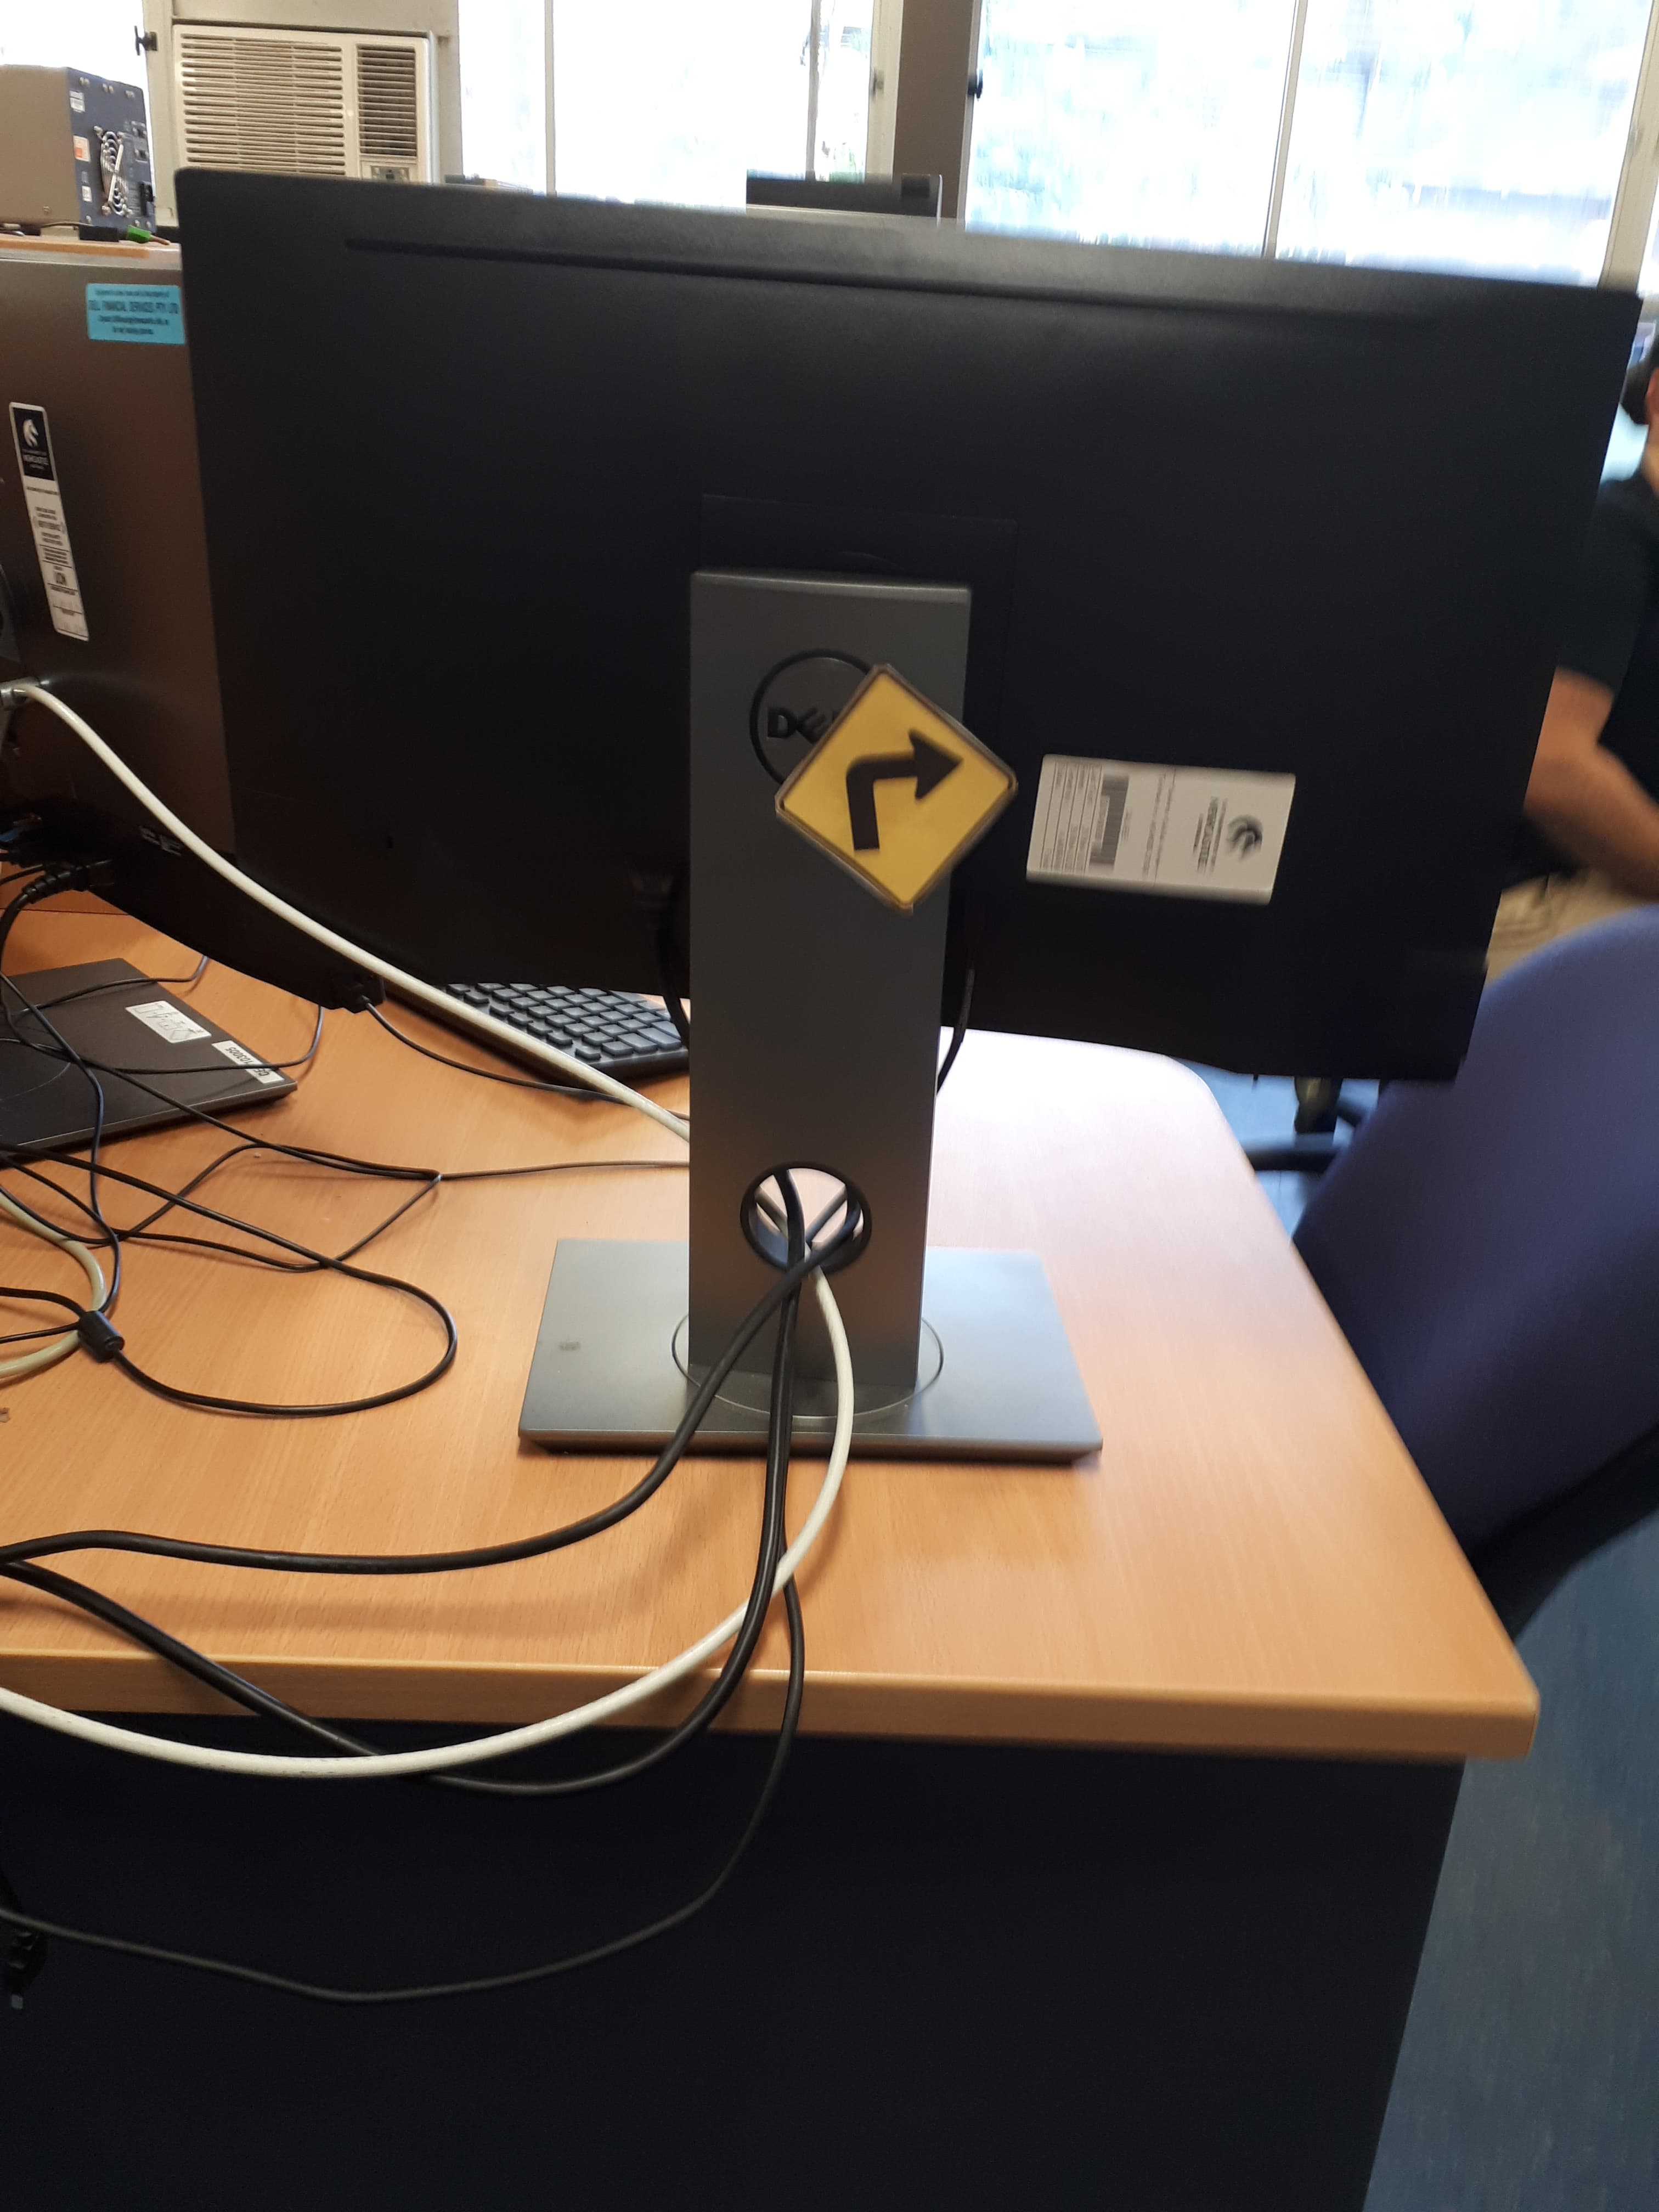right: (762, 615, 1032, 956), (781, 721, 1004, 932), (871, 695, 1080, 871), (823, 622, 988, 791)
